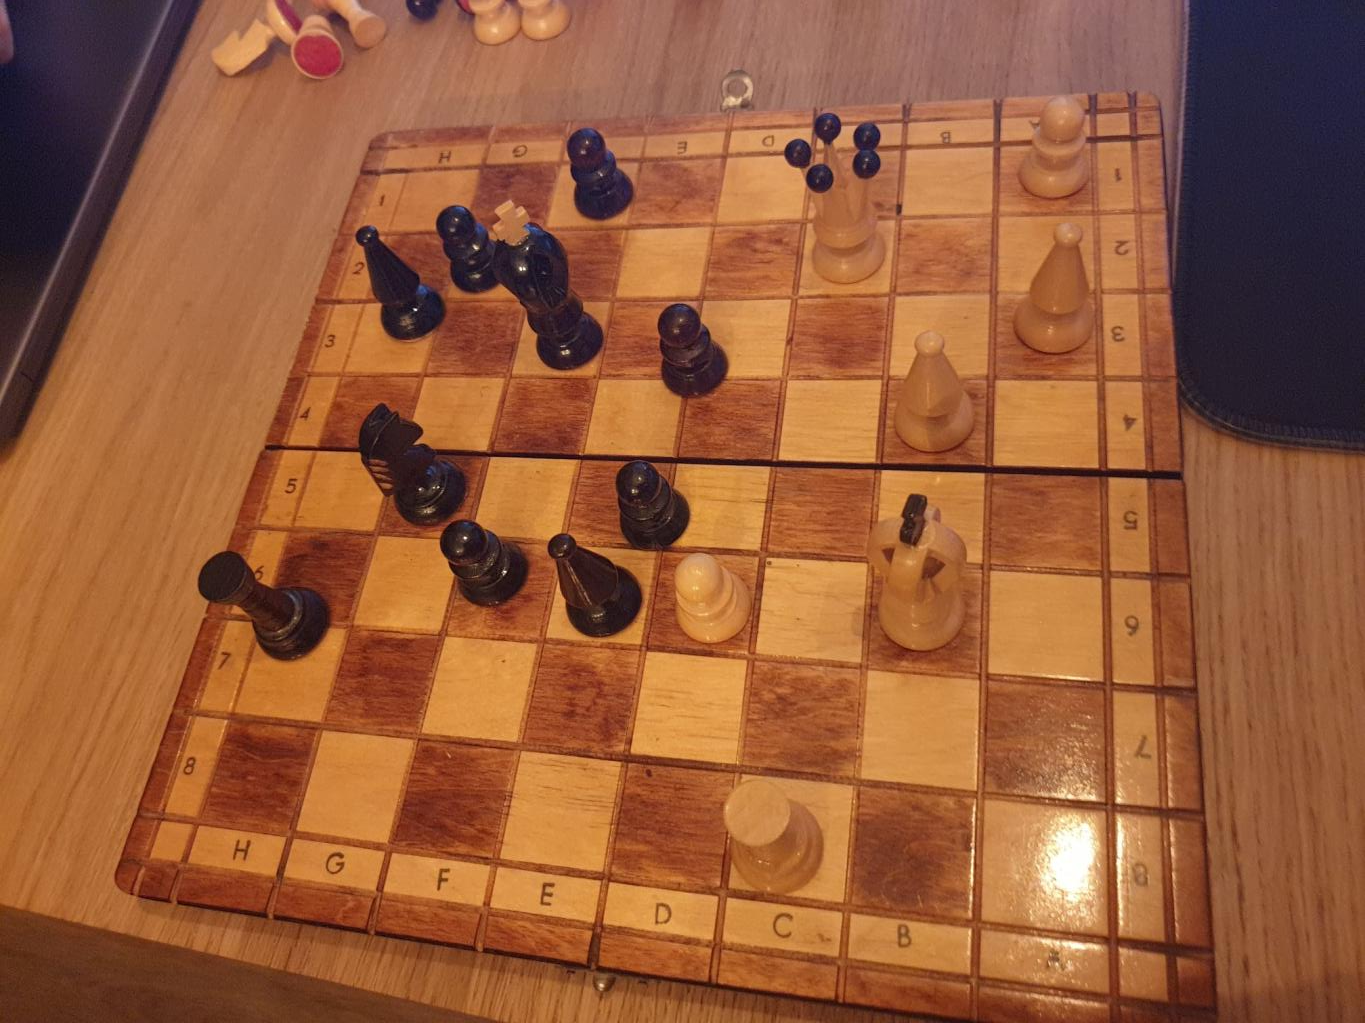bbishop: (353, 221, 448, 342), (544, 531, 644, 636)
bking: (486, 194, 607, 373)
bknight: (358, 400, 470, 528)
bpawn: (440, 518, 529, 611), (614, 458, 693, 551), (657, 299, 729, 401), (434, 201, 505, 299), (565, 127, 637, 220)
brook: (193, 550, 328, 662)
wbishop: (1012, 221, 1100, 360), (891, 328, 979, 459)
wking: (861, 495, 976, 662)
wknight: (211, 1, 301, 75)
wpawn: (1017, 96, 1096, 203), (674, 551, 756, 645)
wqueen: (785, 113, 894, 283)
wrook: (721, 778, 825, 898)
